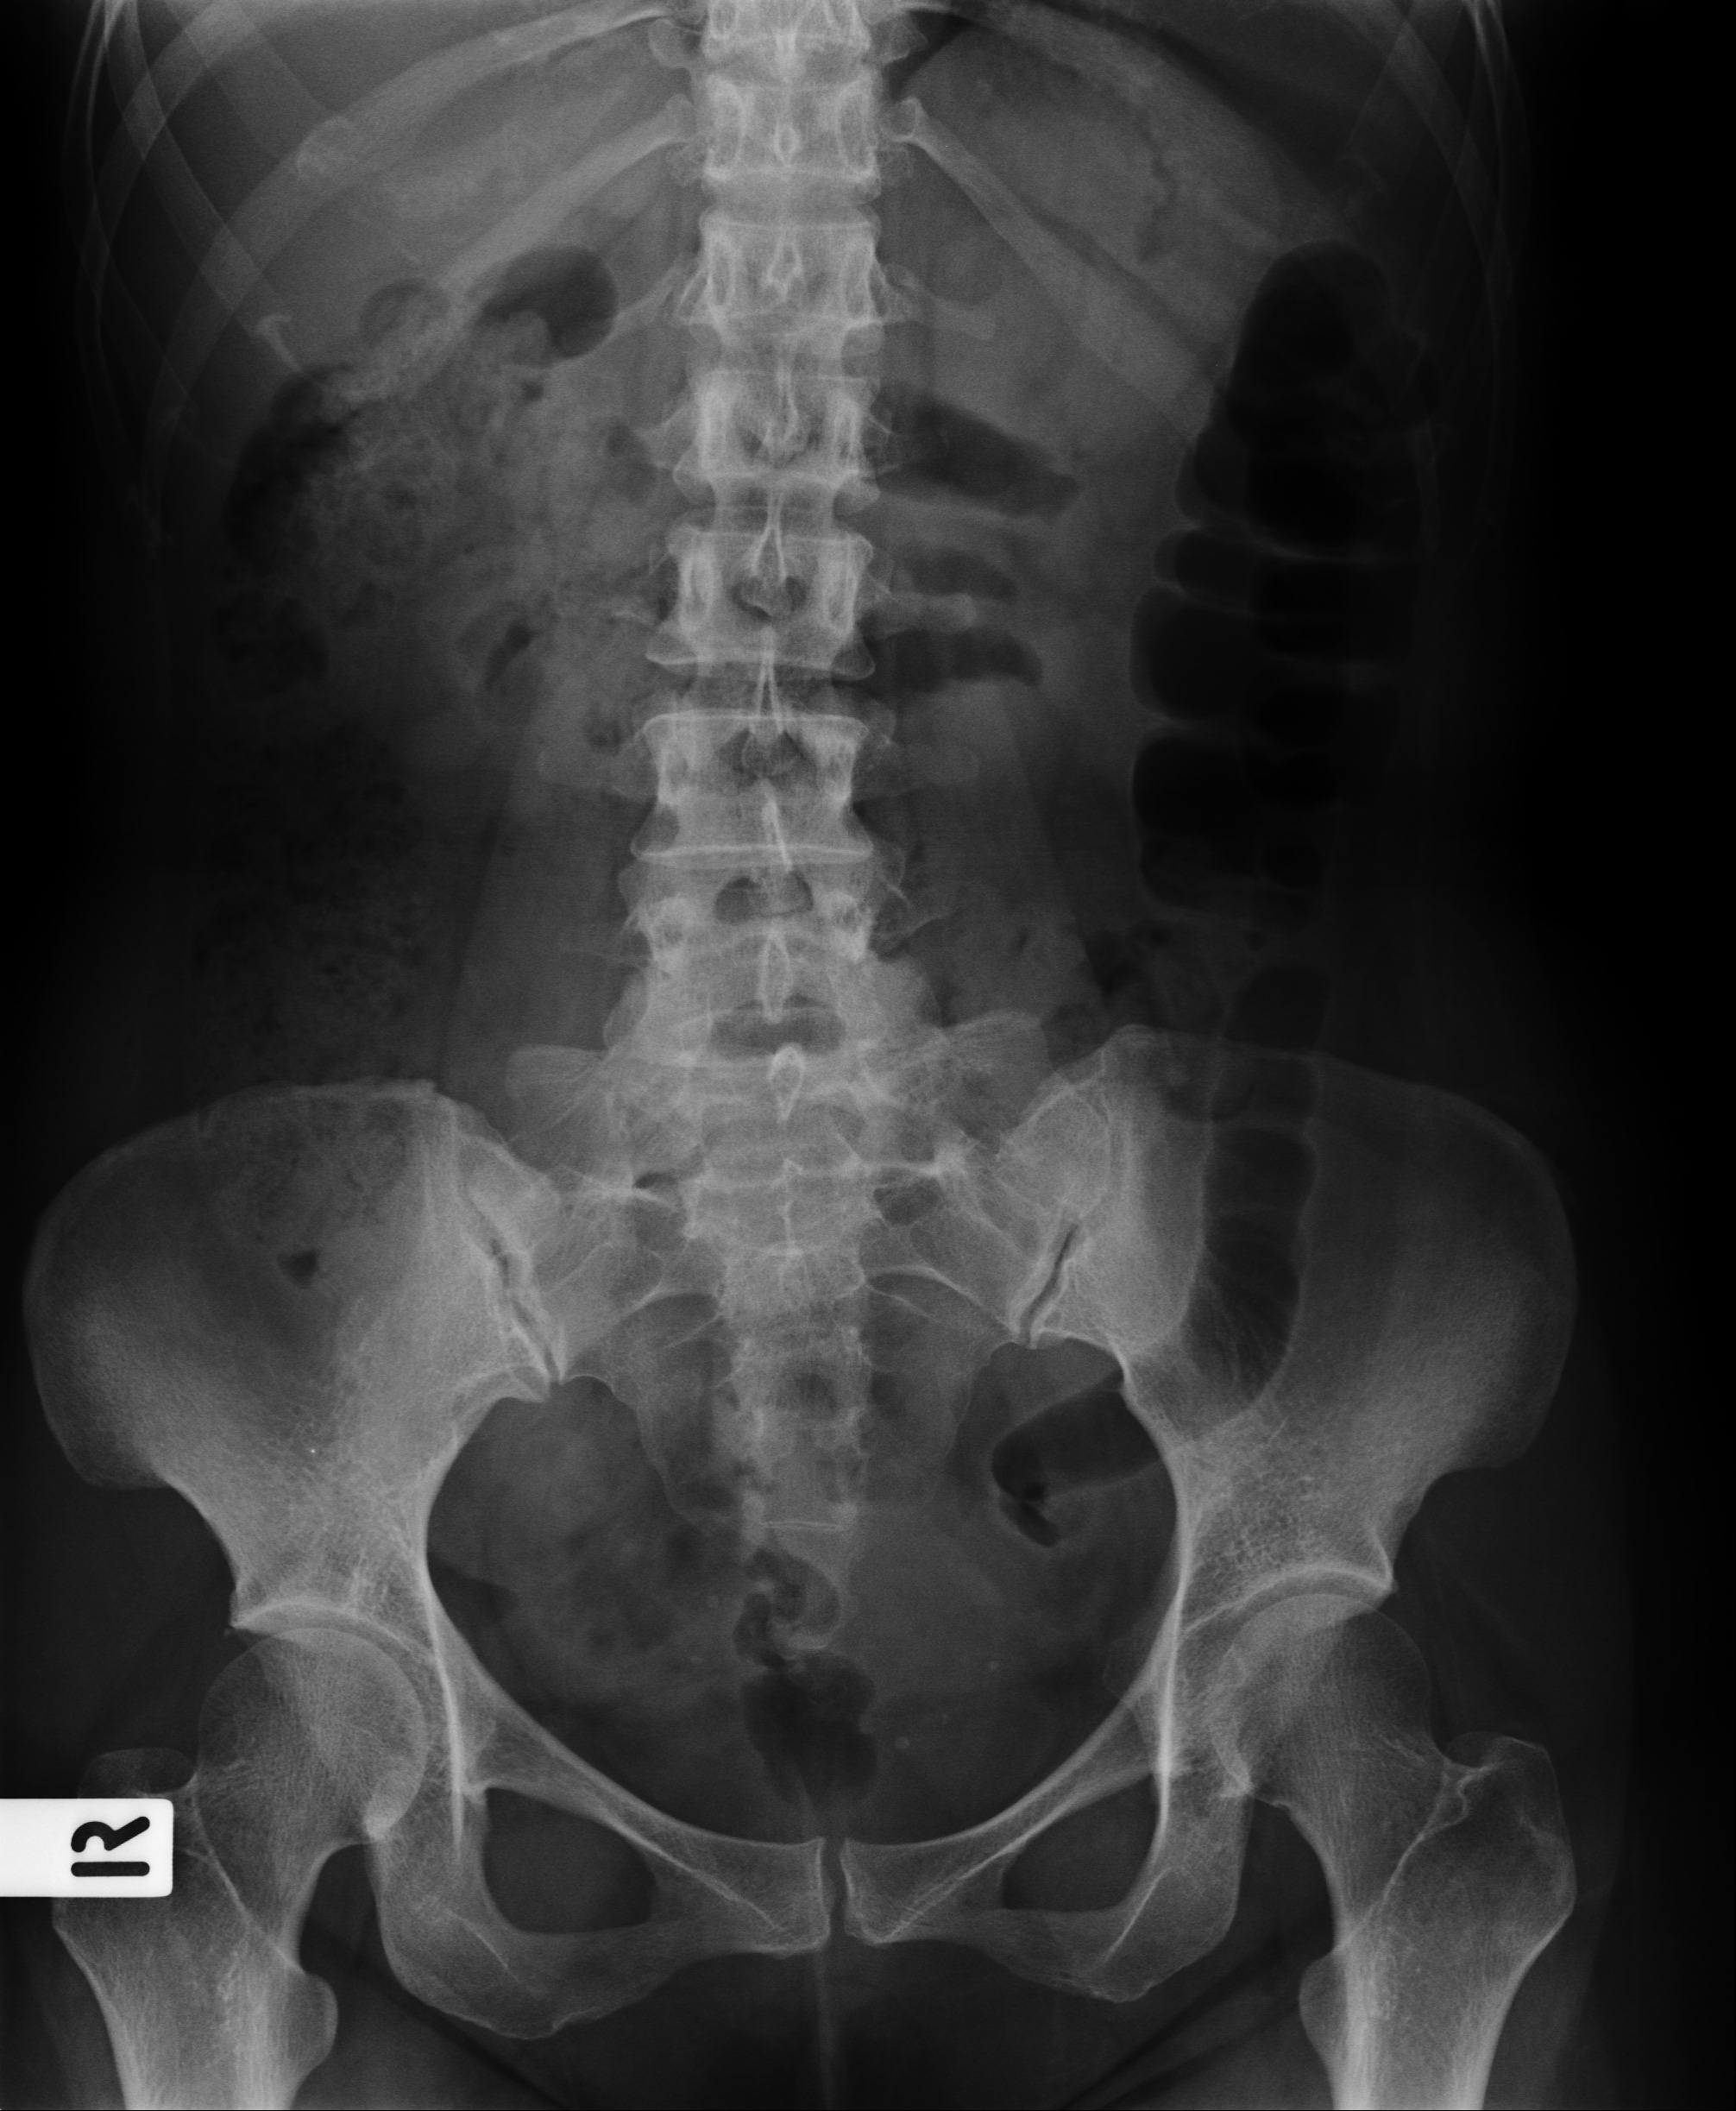lumbar scoliosis: (617, 25, 914, 1082)
